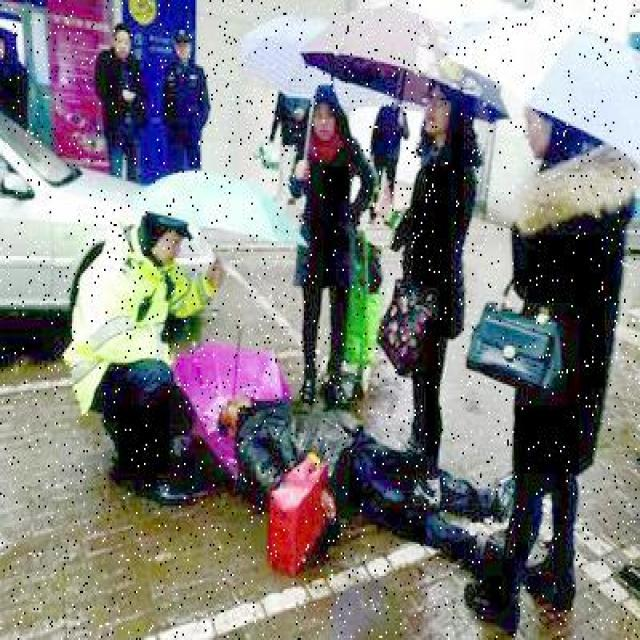fall: (222, 384, 498, 552)
